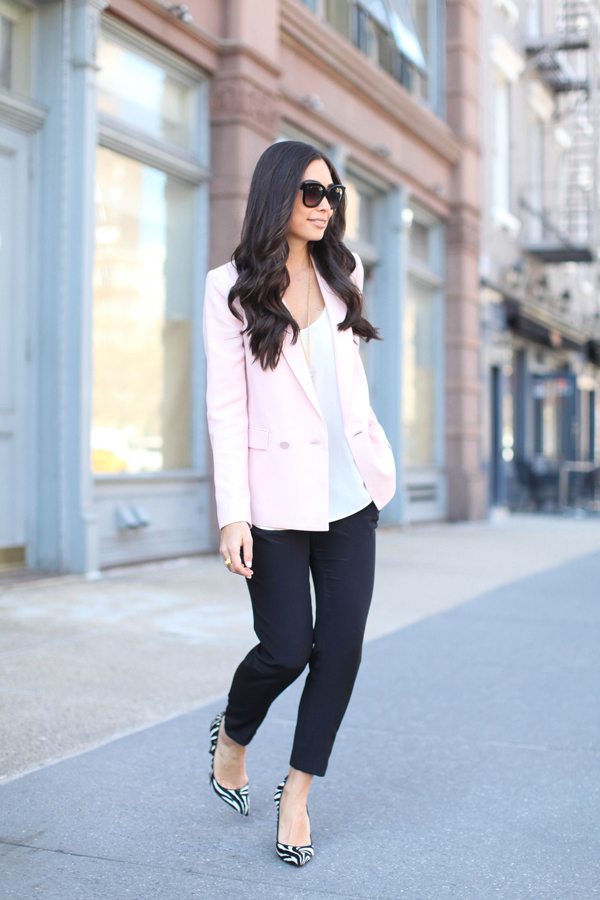F_W_suit jacket: (189, 251, 408, 525)
